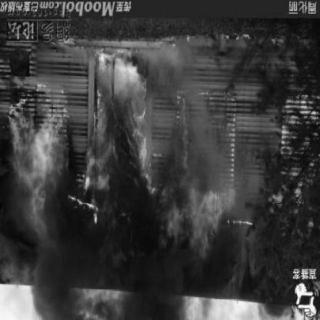Fire: (7, 84, 69, 257)
Smoke: (26, 205, 90, 319)
